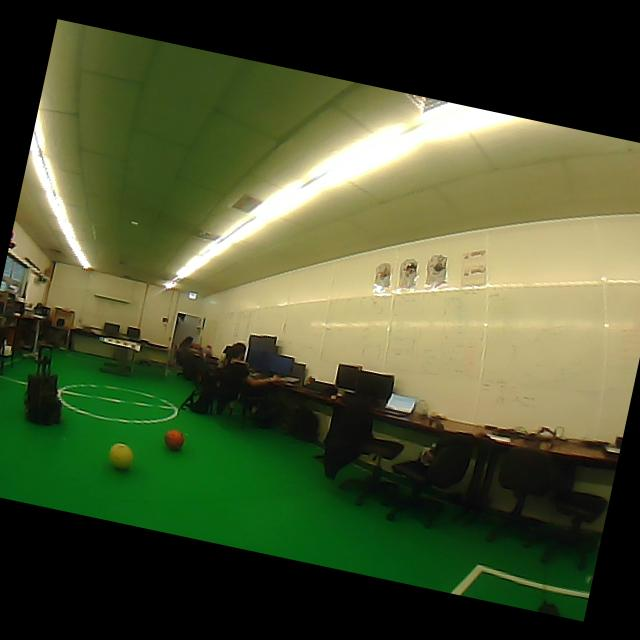ball: (108, 443, 134, 469), (163, 429, 184, 451)
robot: (25, 347, 62, 425)
